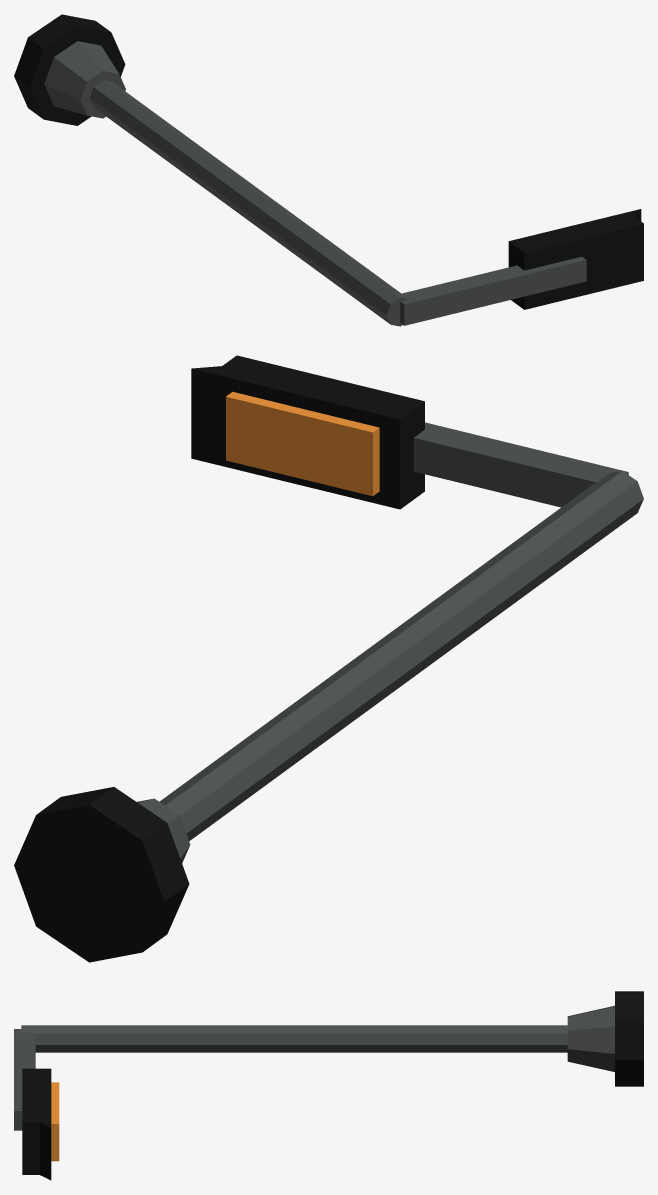
Rendered from street_lamp.obj.
3 views of the same model, one above another, from view 1: azimuth 30°, elevation 25°; view 2: azimuth 150°, elevation 25°; view 3: azimuth 270°, elevation 25° (orthographic). The views are drawn at different scales.
Visible parts, largest first — view 1: pole, lamp_head, arm, base, base_shroud; view 2: pole, base, lamp_head, lamp_lens, arm, lamp_nose, base_shroud; view 3: pole, base, base_shroud, lamp_head, arm, lamp_nose, lamp_lens.
Boxes of the visible parts, x1,y1,x2,y2 form: pole: (89,80,408,326); lamp_head: (508,212,643,309); arm: (400,256,586,325); base: (14,14,125,125); base_shroud: (44,41,125,118); pole: (159,471,643,841); base: (14,787,189,962); lamp_head: (212,355,424,509); lamp_lens: (226,391,379,496); arm: (413,422,628,507); lamp_nose: (191,363,262,469); base_shroud: (137,798,190,863); pole: (21,1025,567,1052); base: (615,991,643,1086); base_shroud: (567,1005,614,1071); lamp_head: (22,1068,51,1174); arm: (14,1029,35,1130); lamp_nose: (39,1117,51,1180); lamp_lens: (51,1082,59,1161).
Size of the model in its own units: 2.68 by 0.84 by 5.21.
